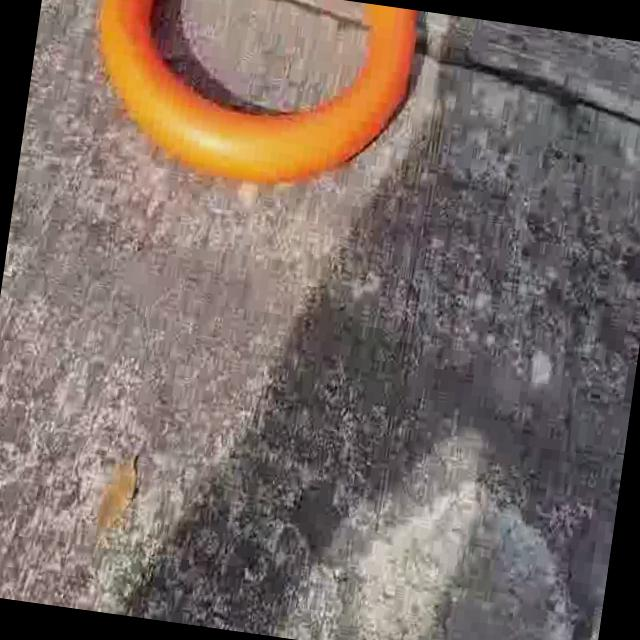note: (75, 0, 425, 204)
